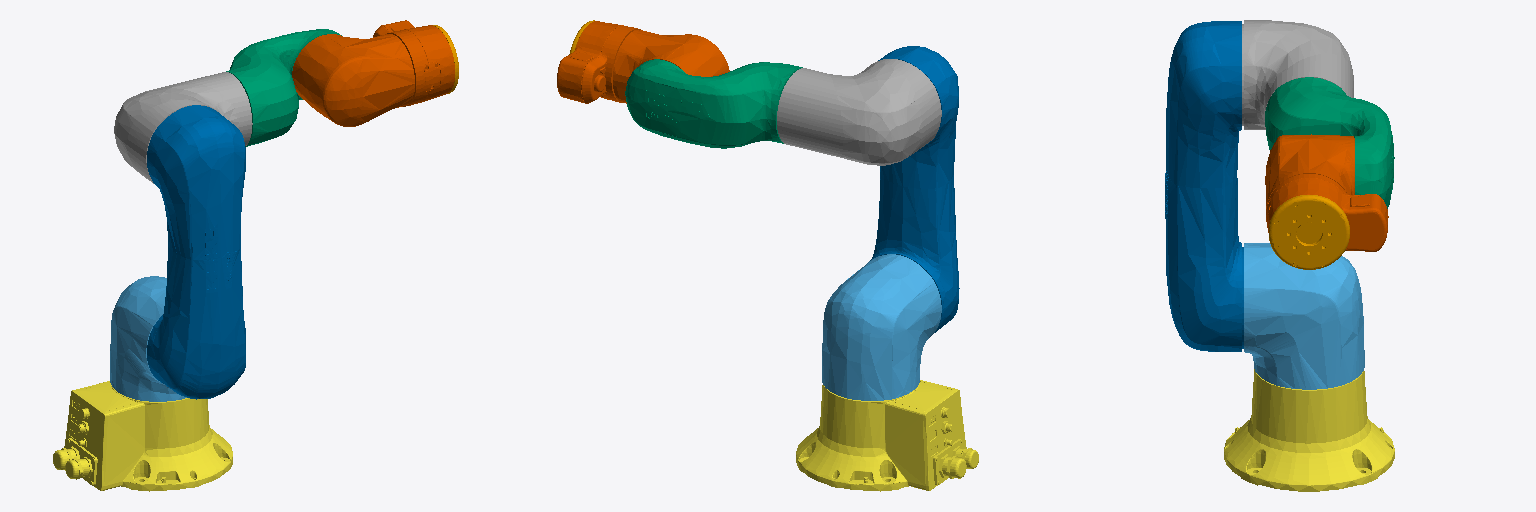
robot.urdf — LBR3R760iisy:
<?xml version="1.0" encoding="UTF-8"?>
<robot name="LBR3R760iisy">
  <joint name="LBR3R760iisy_BasicJoint3" type="revolute">
    <axis xyz="0.0 1.0 0.0"/>
    <child link="LBR3R760iisy_Link3"/>
    <limit effort="5.0E0" lower="-2.61799387799E0" upper="2.61799387799E0" velocity="2.0E0"/>
    <origin rpy="-0.0 0.0 -0.0" xyz="0.0 0.0 0.3"/>
    <parent link="LBR3R760iisy_Link2"/>
  </joint>
  <joint name="LBR3R760iisy_BasicJoint1" type="revolute">
    <axis xyz="0.0 0.0 1.0"/>
    <child link="LBR3R760iisy_Link1"/>
    <limit effort="5.0E0" lower="-3.2288591E0" upper="3.2288591E0" velocity="2.0E0"/>
    <origin rpy="-0.0 0.0 -0.0" xyz="0.0 0.0 0.1264"/>
    <parent link="LBR3R760iisy_FixedBase"/>
  </joint>
  <joint name="LBR3R760iisy_BaseJoint" type="fixed">
    <child link="LBR3R760iisy_FixedBase"/>
    <parent link="world"/>
  </joint>
  <joint name="LBR3R760iisy_BasicJoint4" type="revolute">
    <axis xyz="1.0 0.0 0.0"/>
    <child link="LBR3R760iisy_Link4"/>
    <limit effort="5.0E0" lower="-3.05432619E0" upper="3.05432619E0" velocity="2.0E0"/>
    <origin rpy="-0.0 0.0 -0.0" xyz="0.1292 0.0829 0.0"/>
    <parent link="LBR3R760iisy_Link3"/>
  </joint>
  <joint name="LBR3R760iisy_BasicJoint5" type="revolute">
    <axis xyz="0.0 1.0 0.0"/>
    <child link="LBR3R760iisy_Link5"/>
    <limit effort="5.0E0" lower="-1.919862177E0" upper="1.919862177E0" velocity="2.0E0"/>
    <origin rpy="-0.0 0.0 -0.0" xyz="0.1708 0.0382 0.0"/>
    <parent link="LBR3R760iisy_Link4"/>
  </joint>
  <joint name="LBR3R760iisy_BasicJoint6" type="revolute">
    <axis xyz="1.0 0.0 0.0"/>
    <child link="LBR3R760iisy_Link6"/>
    <limit effort="5.0E0" lower="-3.839724354E0" upper="3.839724354E0" velocity="2.0E0"/>
    <origin rpy="-0.0 0.0 -0.0" xyz="0.0682 -0.0382 0.0"/>
    <parent link="LBR3R760iisy_Link5"/>
  </joint>
  <joint name="LBR3R760iisy_BasicJoint2" type="revolute">
    <axis xyz="0.0 1.0 0.0"/>
    <child link="LBR3R760iisy_Link2"/>
    <limit effort="5.0E0" lower="-4.0142572796E0" upper="8.726646E-1" velocity="2.0E0"/>
    <origin rpy="-0.0 0.0 -0.0" xyz="0.0 -0.0829 0.0886"/>
    <parent link="LBR3R760iisy_Link1"/>
  </joint>
  <link name="LBR3R760iisy_Link6">
    <collision>
      <geometry>
        <mesh filename="package://lbriisy/meshes/link6.stl"/>
      </geometry>
      <origin rpy="-0.0 0.0 -0.0" xyz="0.0 0.0 0.0"/>
    </collision>
    <inertial>
      <inertia ixx="0.0014673917002994" ixy="0.0" ixz="0.0" iyy="0.00112131520678352" iyz="0.0" izz="0.00158160486913488"/>
      <mass value="8.43E-1"/>
      <origin rpy="-0.0 0.0 -0.0" xyz="0.0 0.0 0.0"/>
    </inertial>
    <visual>
      <geometry>
        <mesh filename="package://lbriisy/meshes/link6.stl"/>
      </geometry>
      <origin rpy="-0.0 0.0 -0.0" xyz="0.0 0.0 0.0"/>
    </visual>
  </link>
  <link name="LBR3R760iisy_Link1">
    <collision>
      <geometry>
        <mesh filename="package://lbriisy/meshes/link1.stl"/>
      </geometry>
      <origin rpy="-0.0 0.0 -0.0" xyz="0.0 0.0 0.0"/>
    </collision>
    <inertial>
      <inertia ixx="0.00864540353780418" ixy="0.0" ixz="0.0" iyy="0.00573103463618732" iyz="0.0" izz="0.00974792600424334"/>
      <mass value="3.2492E0"/>
      <origin rpy="-0.0 0.0 -0.0" xyz="0.0 0.0 0.0"/>
    </inertial>
    <visual>
      <geometry>
        <mesh filename="package://lbriisy/meshes/link1.stl"/>
      </geometry>
      <origin rpy="-0.0 0.0 -0.0" xyz="0.0 0.0 0.0"/>
    </visual>
  </link>
  <link name="LBR3R760iisy_Link4">
    <collision>
      <geometry>
        <mesh filename="package://lbriisy/meshes/link4.stl"/>
      </geometry>
      <origin rpy="-0.0 0.0 -0.0" xyz="0.0 0.0 0.0"/>
    </collision>
    <inertial>
      <inertia ixx="0.00244684891934666" ixy="0.0" ixz="0.0" iyy="0.00929300990970133" iyz="0.0" izz="0.00957902612033654"/>
      <mass value="2.0138E0"/>
      <origin rpy="-0.0 0.0 -0.0" xyz="0.0 0.0 0.0"/>
    </inertial>
    <visual>
      <geometry>
        <mesh filename="package://lbriisy/meshes/link4.stl"/>
      </geometry>
      <origin rpy="-0.0 0.0 -0.0" xyz="0.0 0.0 0.0"/>
    </visual>
  </link>
  <link name="LBR3R760iisy_FixedBase">
    <collision>
      <geometry>
        <mesh filename="package://lbriisy/meshes/robotBase.stl"/>
      </geometry>
      <origin rpy="-0.0 0.0 -0.0" xyz="0.0 0.0 0.0"/>
    </collision>
    <inertial>
      <inertia ixx="5.0E-4" ixy="0.0" ixz="0.0" iyy="5.0E-4" iyz="0.0" izz="5.0E-4"/>
      <mass value="3.6832E0"/>
      <origin rpy="-0.0 0.0 -0.0" xyz="0.0 0.0 0.0"/>
    </inertial>
    <visual>
      <geometry>
        <mesh filename="package://lbriisy/meshes/robotBase.stl"/>
      </geometry>
      <origin rpy="-0.0 0.0 -0.0" xyz="0.0 0.0 0.0"/>
    </visual>
  </link>
  <link name="LBR3R760iisy_Link2">
    <collision>
      <geometry>
        <mesh filename="package://lbriisy/meshes/link2.stl"/>
      </geometry>
      <origin rpy="-0.0 0.0 -0.0" xyz="0.0 0.0 0.0"/>
    </collision>
    <inertial>
      <inertia ixx="0.0521692170047944" ixy="0.0" ixz="0.0" iyy="0.0042331111850977" iyz="0.0" izz="0.0534425693052013"/>
      <mass value="3.212E0"/>
      <origin rpy="-0.0 0.0 -0.0" xyz="0.0 0.0 0.0"/>
    </inertial>
    <visual>
      <geometry>
        <mesh filename="package://lbriisy/meshes/link2.stl"/>
      </geometry>
      <origin rpy="-0.0 0.0 -0.0" xyz="0.0 0.0 0.0"/>
    </visual>
  </link>
  <link name="LBR3R760iisy_Link5">
    <collision>
      <geometry>
        <mesh filename="package://lbriisy/meshes/link5.stl"/>
      </geometry>
      <origin rpy="-0.0 0.0 -0.0" xyz="0.0 0.0 0.0"/>
    </collision>
    <inertial>
      <inertia ixx="0.00236252846105637" ixy="0.0" ixz="0.0" iyy="0.00141854396142661" iyz="0.0" izz="0.0025813096143987"/>
      <mass value="1.4418E0"/>
      <origin rpy="-0.0 0.0 -0.0" xyz="0.0 0.0 0.0"/>
    </inertial>
    <visual>
      <geometry>
        <mesh filename="package://lbriisy/meshes/link5.stl"/>
      </geometry>
      <origin rpy="-0.0 0.0 -0.0" xyz="0.0 0.0 0.0"/>
    </visual>
  </link>
  <link name="world"/>
  <link name="LBR3R760iisy_Link3">
    <collision>
      <geometry>
        <mesh filename="package://lbriisy/meshes/link3.stl"/>
      </geometry>
      <origin rpy="-0.0 0.0 -0.0" xyz="0.0 0.0 0.0"/>
    </collision>
    <inertial>
      <inertia ixx="0.0113804888378926" ixy="0.0" ixz="0.0" iyy="0.00566536942404497" iyz="0.0" izz="0.0133950588482047"/>
      <mass value="3.471E0"/>
      <origin rpy="-0.0 0.0 -0.0" xyz="0.0 0.0 0.0"/>
    </inertial>
    <visual>
      <geometry>
        <mesh filename="package://lbriisy/meshes/link3.stl"/>
      </geometry>
      <origin rpy="-0.0 0.0 -0.0" xyz="0.0 0.0 0.0"/>
    </visual>
  </link>
  <transmission name="trans_LBR3R760iisy_BasicJoint1">
    <actuator name="LBR3R760iisy_BasicJoint1_motor">
      <hardwareInterface>EffortJointInterface</hardwareInterface>
      <mechanicalReduction>1.0</mechanicalReduction>
    </actuator>
    <joint name="LBR3R760iisy_BasicJoint1">
      <hardwareInterface>hardware_interface/EffortJointInterface</hardwareInterface>
    </joint>
  </transmission>
  <transmission name="trans_LBR3R760iisy_BasicJoint3">
    <actuator name="LBR3R760iisy_BasicJoint3_motor">
      <hardwareInterface>EffortJointInterface</hardwareInterface>
      <mechanicalReduction>1.0</mechanicalReduction>
    </actuator>
    <joint name="LBR3R760iisy_BasicJoint3">
      <hardwareInterface>hardware_interface/EffortJointInterface</hardwareInterface>
    </joint>
  </transmission>
  <transmission name="trans_LBR3R760iisy_BasicJoint2">
    <actuator name="LBR3R760iisy_BasicJoint2_motor">
      <hardwareInterface>EffortJointInterface</hardwareInterface>
      <mechanicalReduction>1.0</mechanicalReduction>
    </actuator>
    <joint name="LBR3R760iisy_BasicJoint2">
      <hardwareInterface>hardware_interface/EffortJointInterface</hardwareInterface>
    </joint>
  </transmission>
  <transmission name="trans_LBR3R760iisy_BasicJoint5">
    <actuator name="LBR3R760iisy_BasicJoint5_motor">
      <hardwareInterface>EffortJointInterface</hardwareInterface>
      <mechanicalReduction>1.0</mechanicalReduction>
    </actuator>
    <joint name="LBR3R760iisy_BasicJoint5">
      <hardwareInterface>hardware_interface/EffortJointInterface</hardwareInterface>
    </joint>
  </transmission>
  <transmission name="trans_LBR3R760iisy_BasicJoint6">
    <actuator name="LBR3R760iisy_BasicJoint6_motor">
      <hardwareInterface>EffortJointInterface</hardwareInterface>
      <mechanicalReduction>1.0</mechanicalReduction>
    </actuator>
    <joint name="LBR3R760iisy_BasicJoint6">
      <hardwareInterface>hardware_interface/EffortJointInterface</hardwareInterface>
    </joint>
  </transmission>
  <transmission name="trans_LBR3R760iisy_BasicJoint4">
    <actuator name="LBR3R760iisy_BasicJoint4_motor">
      <hardwareInterface>EffortJointInterface</hardwareInterface>
      <mechanicalReduction>1.0</mechanicalReduction>
    </actuator>
    <joint name="LBR3R760iisy_BasicJoint4">
      <hardwareInterface>hardware_interface/EffortJointInterface</hardwareInterface>
    </joint>
  </transmission>
</robot>

--- Render facts (derived) ---
Views: 3 orthographic renders of the robot side by side, from view 1: azimuth 30°, elevation 25°; view 2: azimuth 150°, elevation 25°; view 3: azimuth 270°, elevation 25°.
Model LBR3R760iisy with 8 links and 7 joints (6 revolute, 1 fixed), rooted at world, posed all joints at 0.
Links seen in each view (by area): view 1: LBR3R760iisy_Link2, LBR3R760iisy_FixedBase, LBR3R760iisy_Link5, LBR3R760iisy_Link3, LBR3R760iisy_Link4, LBR3R760iisy_Link1; view 2: LBR3R760iisy_FixedBase, LBR3R760iisy_Link1, LBR3R760iisy_Link3, LBR3R760iisy_Link2, LBR3R760iisy_Link4, LBR3R760iisy_Link5; view 3: LBR3R760iisy_Link2, LBR3R760iisy_Link1, LBR3R760iisy_FixedBase, LBR3R760iisy_Link4, LBR3R760iisy_Link5, LBR3R760iisy_Link3, LBR3R760iisy_Link6.
Link boxes in pixels (x1=…): LBR3R760iisy_Link2: x1=147, y1=105, x2=245, y2=399; LBR3R760iisy_FixedBase: x1=53, y1=381, x2=232, y2=491; LBR3R760iisy_Link5: x1=292, y1=20, x2=454, y2=126; LBR3R760iisy_Link3: x1=114, y1=72, x2=252, y2=183; LBR3R760iisy_Link4: x1=226, y1=29, x2=341, y2=146; LBR3R760iisy_Link1: x1=110, y1=276, x2=186, y2=401; LBR3R760iisy_FixedBase: x1=796, y1=380, x2=978, y2=491; LBR3R760iisy_Link1: x1=822, y1=254, x2=941, y2=400; LBR3R760iisy_Link3: x1=777, y1=59, x2=941, y2=165; LBR3R760iisy_Link2: x1=870, y1=46, x2=959, y2=332; LBR3R760iisy_Link4: x1=625, y1=59, x2=802, y2=148; LBR3R760iisy_Link5: x1=557, y1=21, x2=729, y2=103; LBR3R760iisy_Link2: x1=1165, y1=21, x2=1243, y2=351; LBR3R760iisy_Link1: x1=1244, y1=243, x2=1364, y2=389; LBR3R760iisy_FixedBase: x1=1224, y1=369, x2=1394, y2=491; LBR3R760iisy_Link4: x1=1265, y1=77, x2=1394, y2=208; LBR3R760iisy_Link5: x1=1265, y1=134, x2=1388, y2=251; LBR3R760iisy_Link3: x1=1242, y1=20, x2=1353, y2=129; LBR3R760iisy_Link6: x1=1269, y1=195, x2=1349, y2=269.
Size in the robot's own frame: 618 by 282 by 583 metres.
7 mesh visuals loaded from 7 distinct referenced files (7 binary STL).